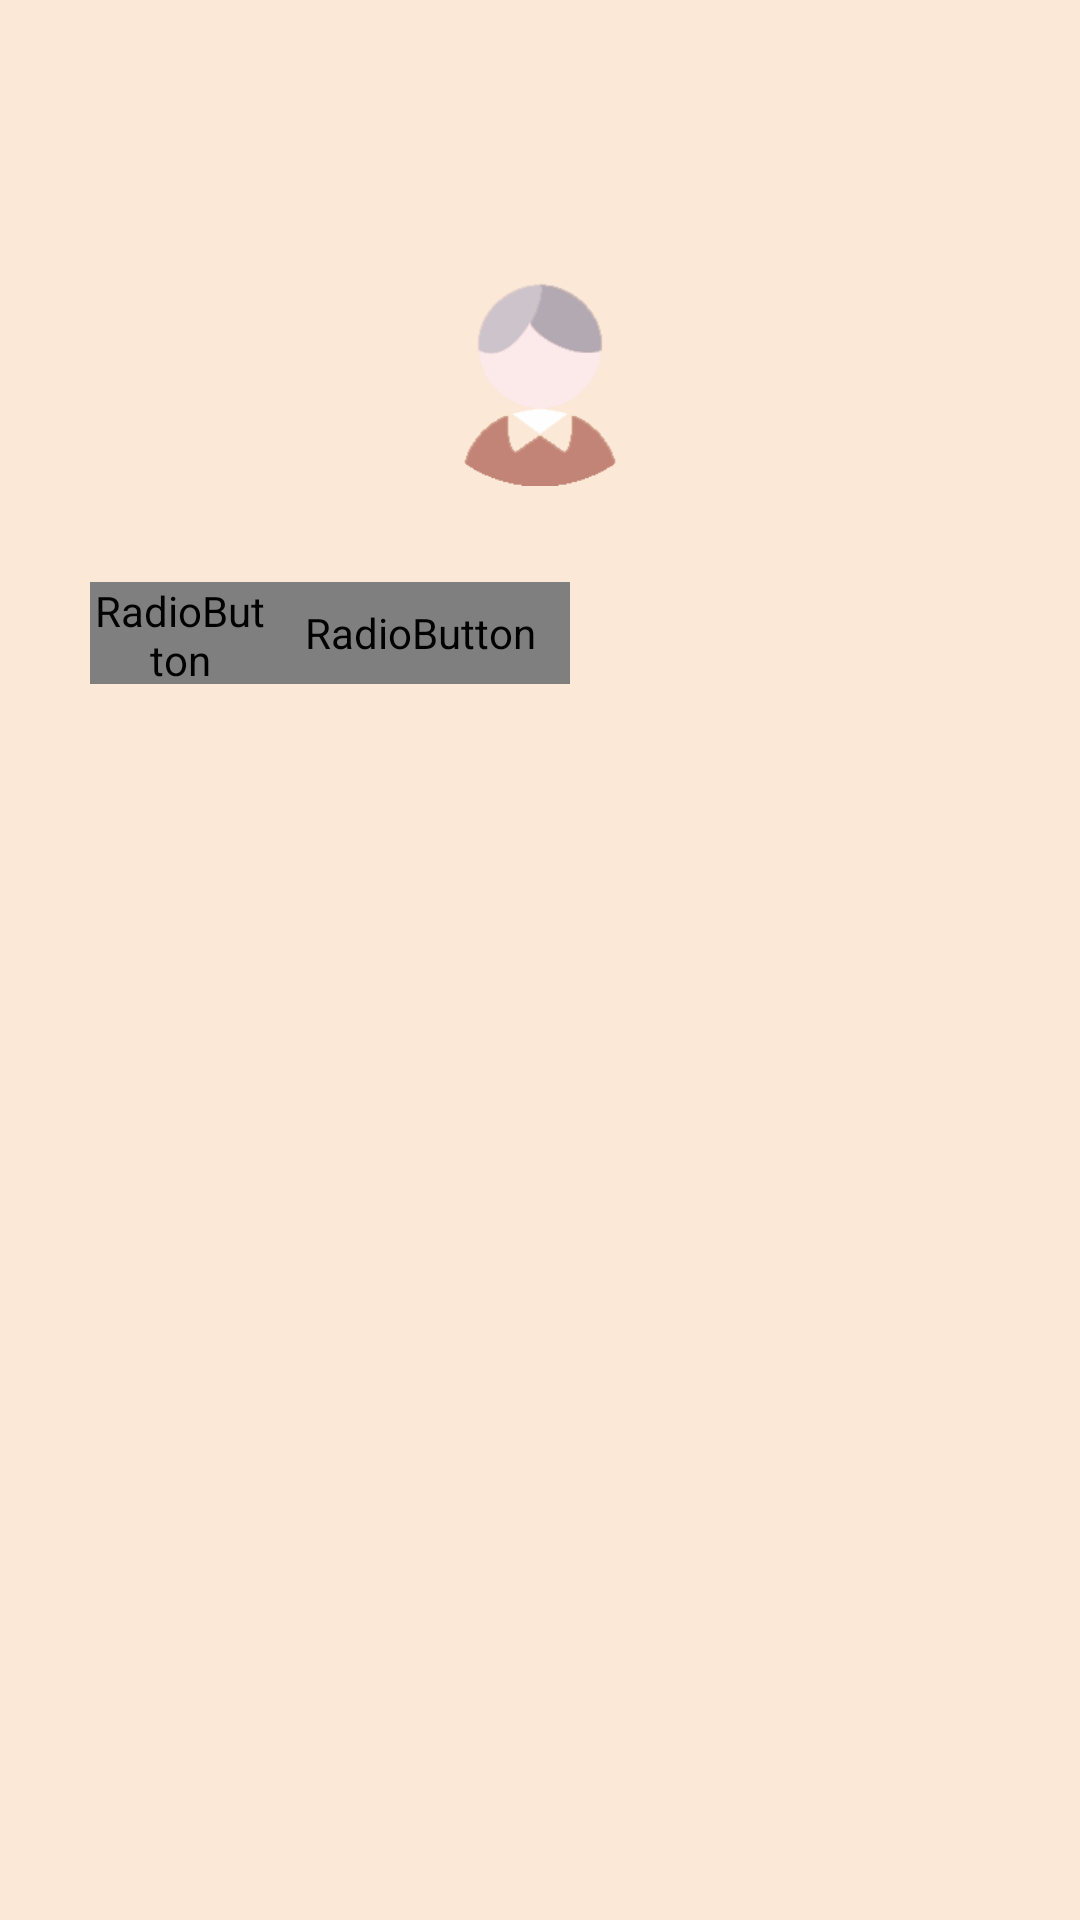

Icon bounding boxes for this 1080w x 1920h phone screenshot, format (x1, y1, x2, y2):
Male: (465, 284, 615, 486)
